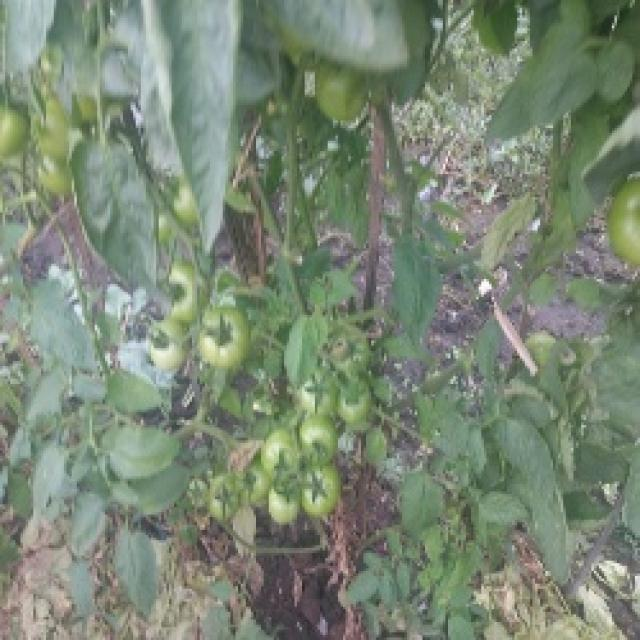tomato: (301, 61, 382, 123), (602, 169, 640, 270), (194, 306, 248, 370), (291, 463, 350, 521), (27, 97, 84, 157), (141, 316, 195, 379), (199, 469, 249, 528), (158, 268, 211, 321), (293, 415, 340, 467), (33, 152, 79, 205), (1, 99, 38, 160), (252, 425, 299, 472), (170, 181, 212, 231), (337, 383, 377, 428), (262, 475, 299, 522), (298, 372, 334, 415), (242, 462, 272, 505), (184, 480, 208, 507)
